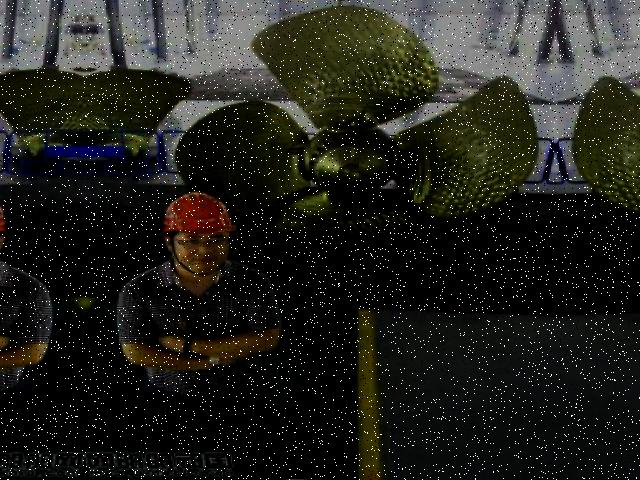Helmet: (160, 183, 246, 239)
